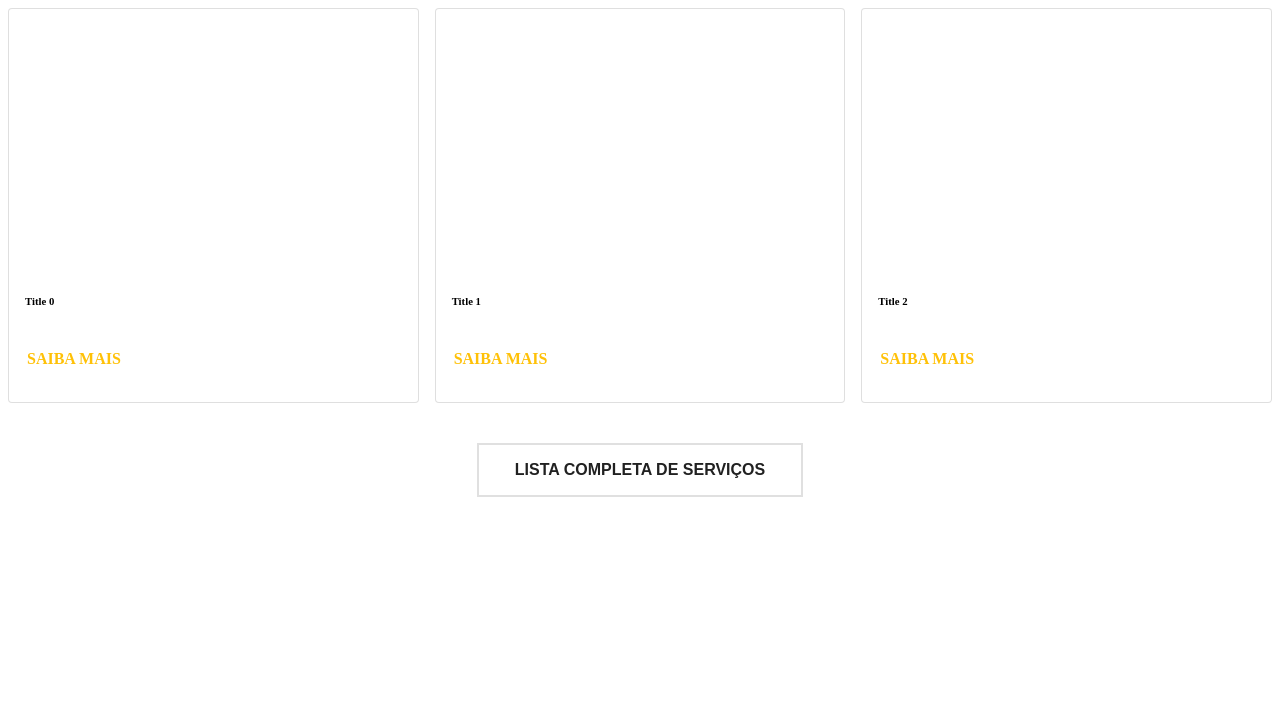
it: with 4 products › show all the products when the button is clicked
This screenshot has width=1280, height=720.
Click the button "Lista completa de serviços".
click(640, 470)  # box [477, 443, 803, 497]
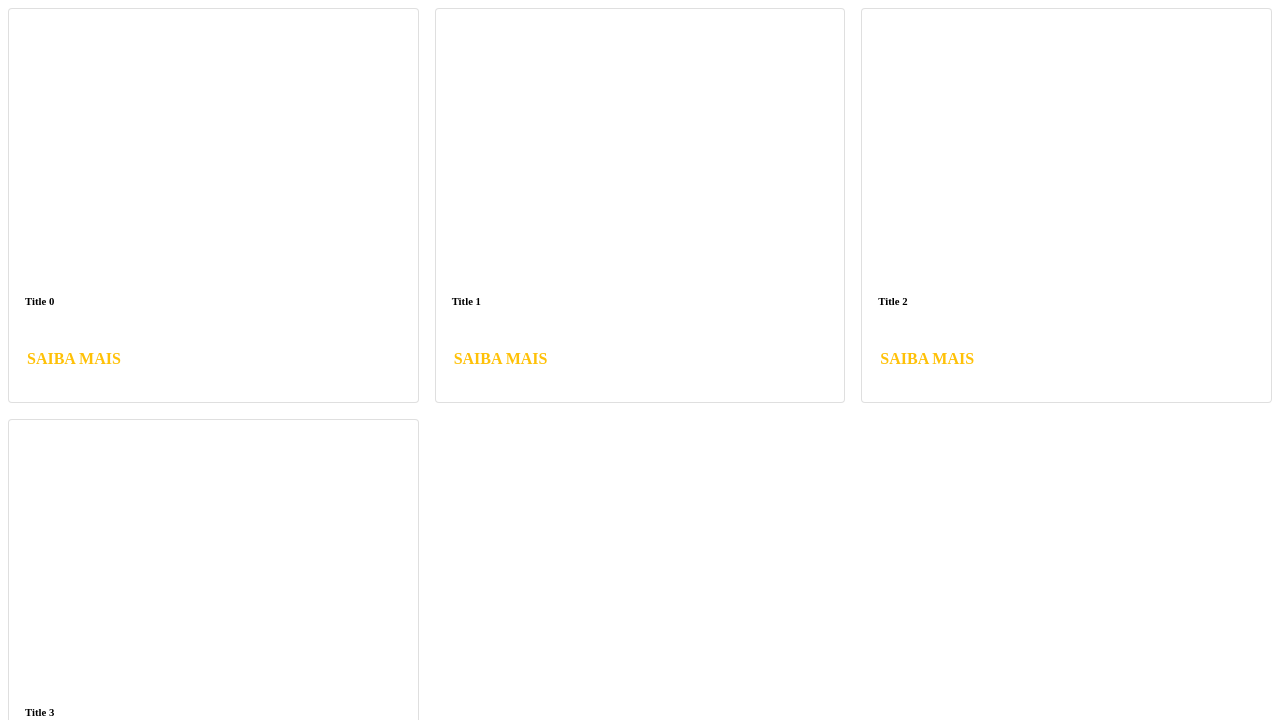
Expected: the number of headings is 4, [25, 295, 54, 307]; [452, 295, 481, 307]; [878, 295, 908, 307]; [25, 706, 54, 718]
